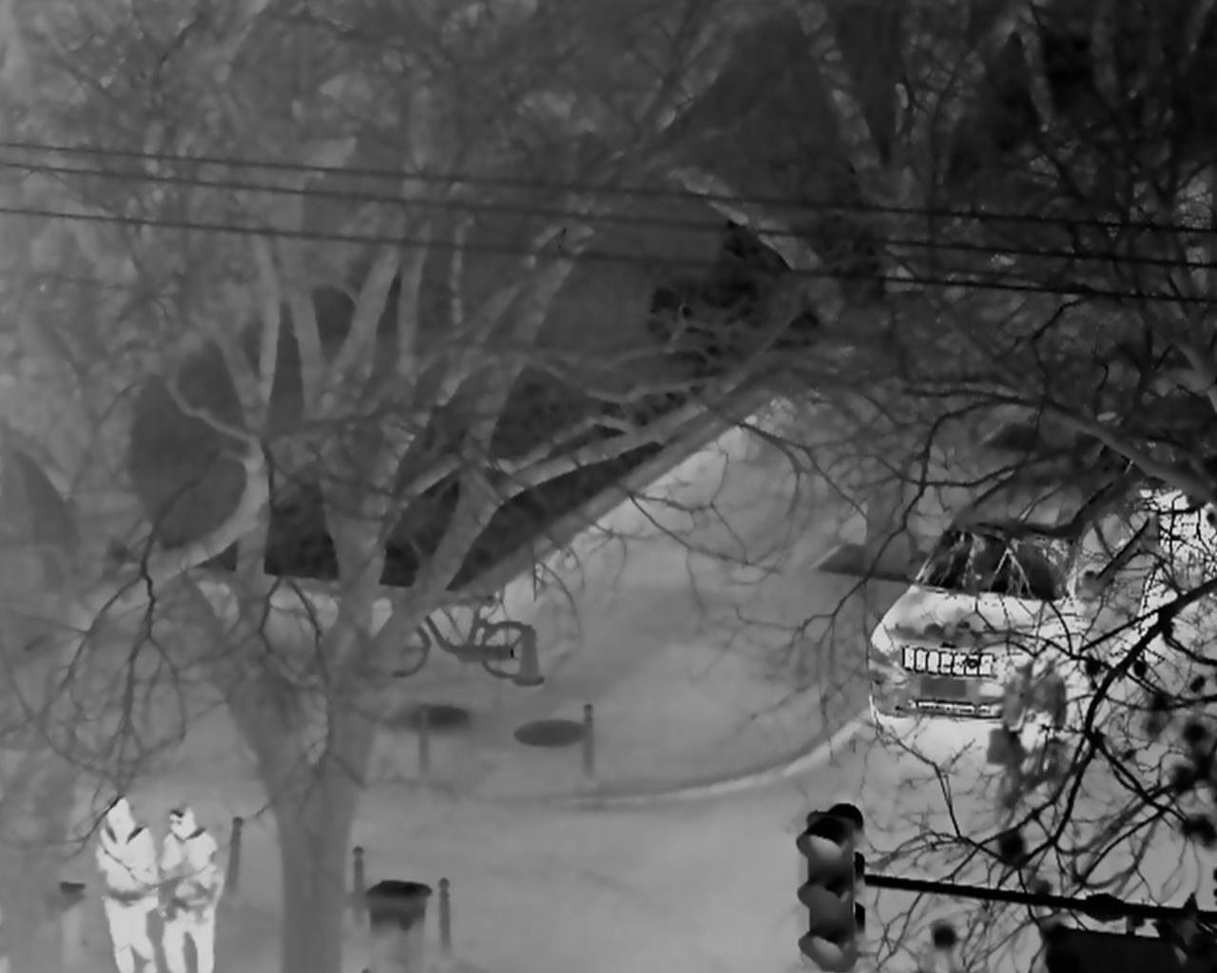person: (94, 797, 159, 973), (161, 803, 225, 973)
